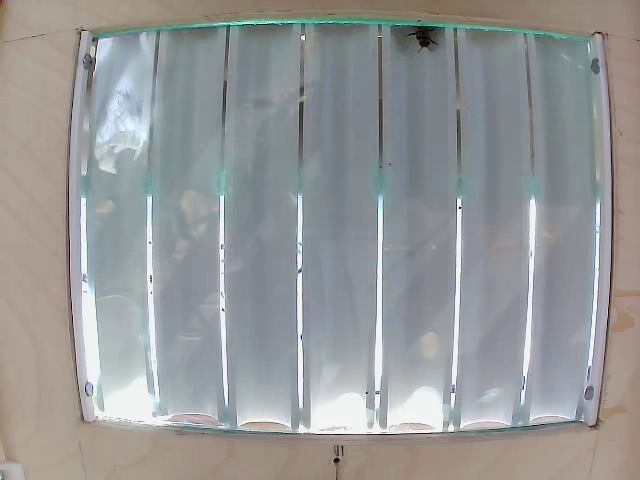bee: (408, 22, 443, 54)
